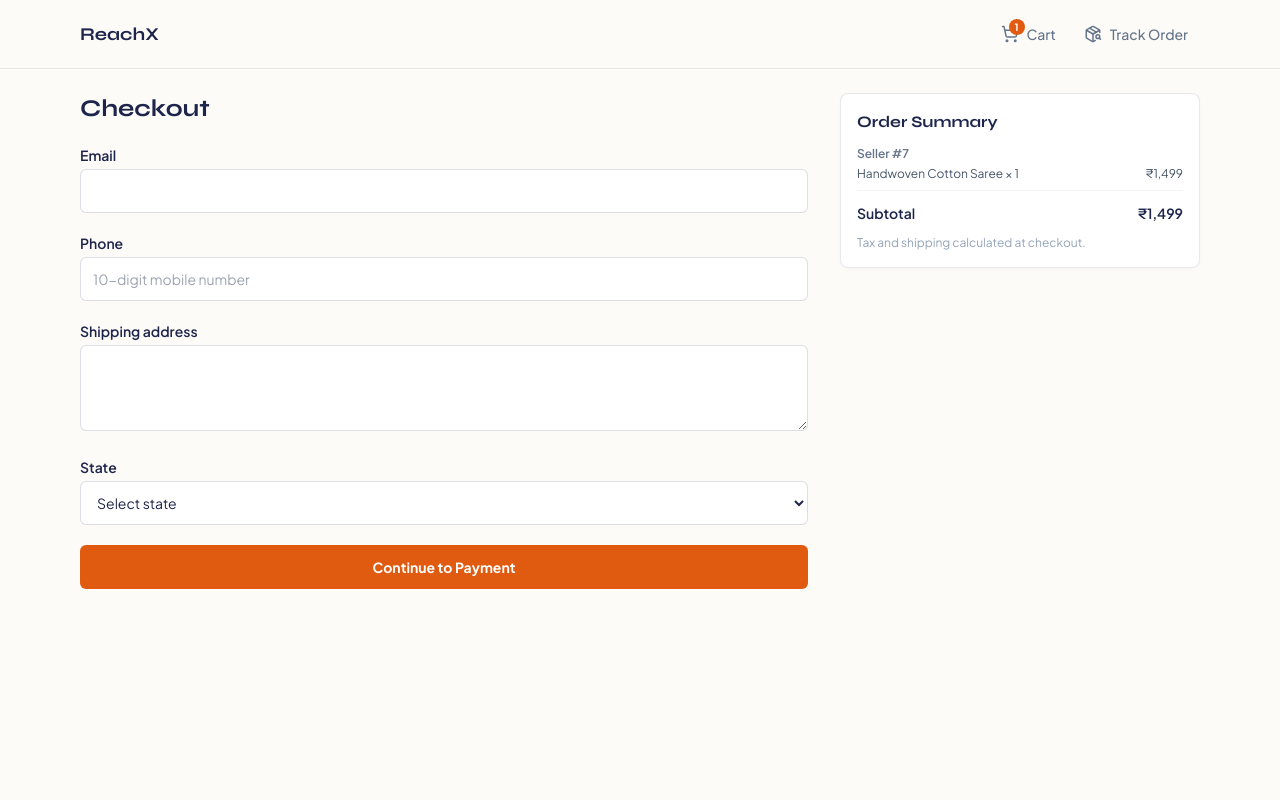
Scenario: Checkout - Session 3, order creation + Razorpay wiring › shows a cancelled panel, not an error, when the guest closes the widget without paying
Expected: the heading "Checkout" is shown, [80,94,210,123]
Type "guest@example.com" into the field labelled "Email".
click(444, 191); type("guest@example.com")  # box [80,169,808,213]
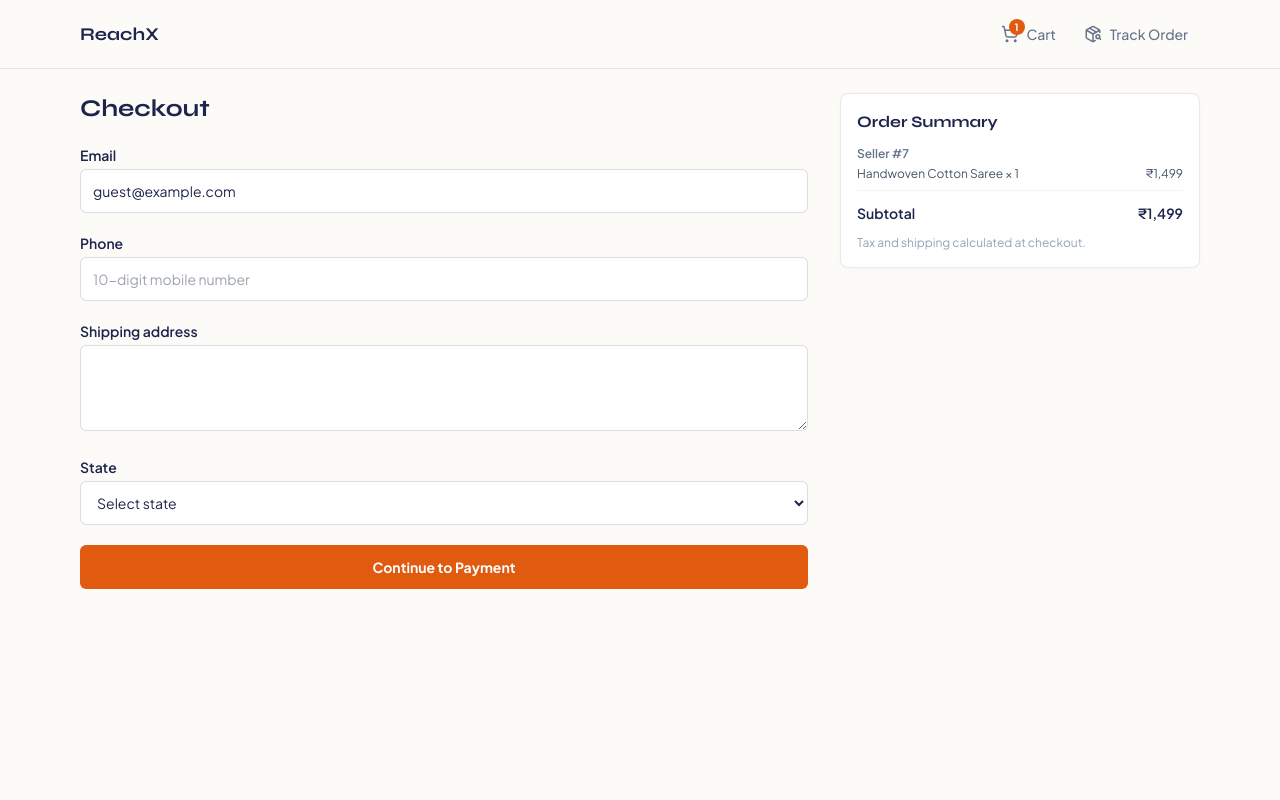
Type "9876543210" into the field labelled "Phone".
click(444, 279); type("9876543210")  # box [80,257,808,301]
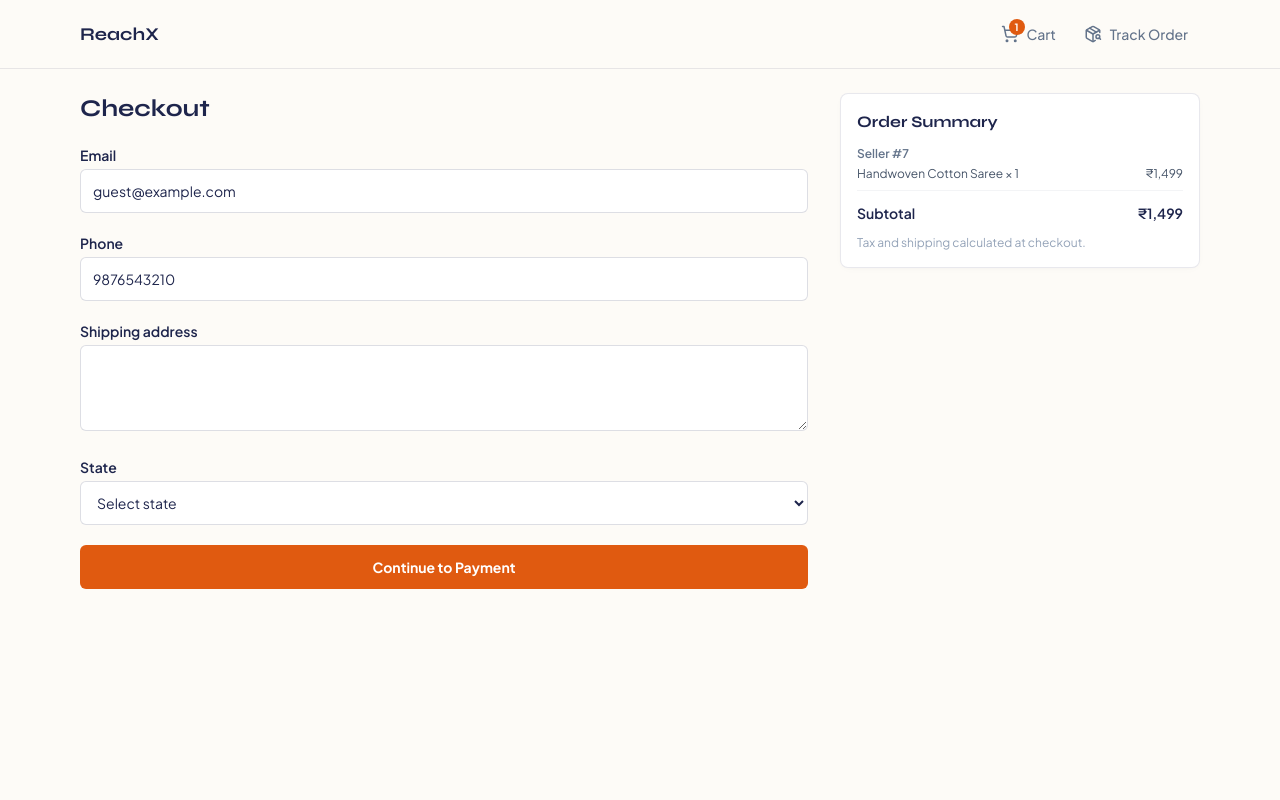
Type "123 MG Road, Bengaluru, 560001" into the text box labelled "Shipping address".
click(444, 388); type("123 MG Road, Bengaluru, 560001")  # box [80,345,808,431]
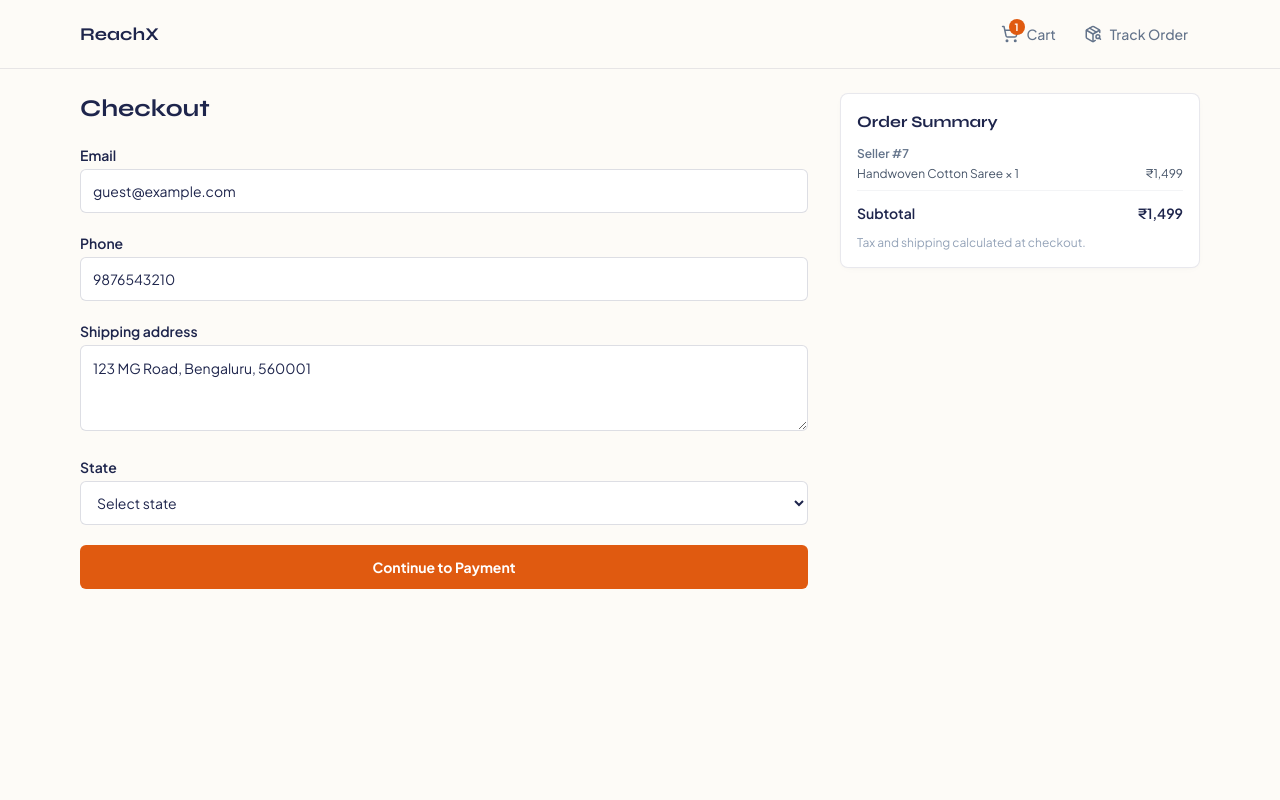
Select "Karnataka" in the dropdown labelled "State" at x=444, y=503, box [80,481,808,525]
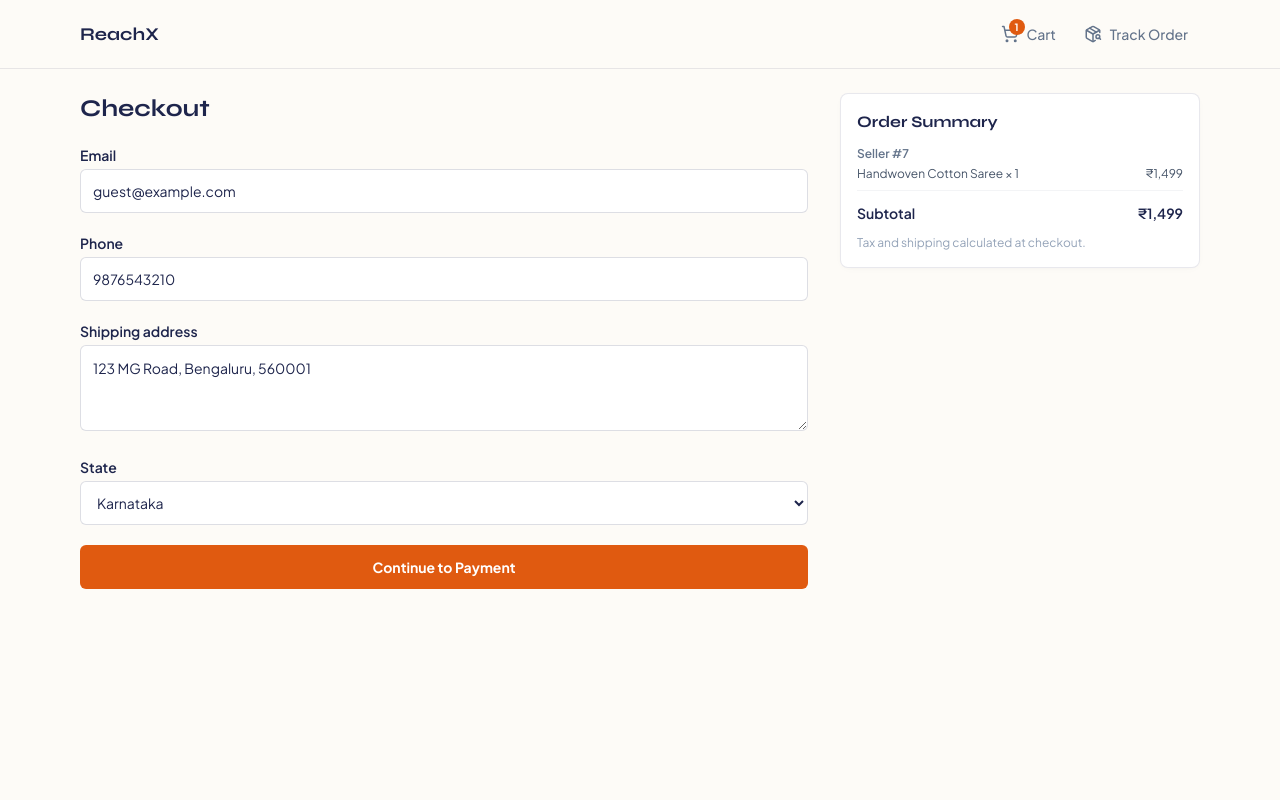
Click the button "Continue to Payment".
click(444, 567)  # box [80,545,808,589]
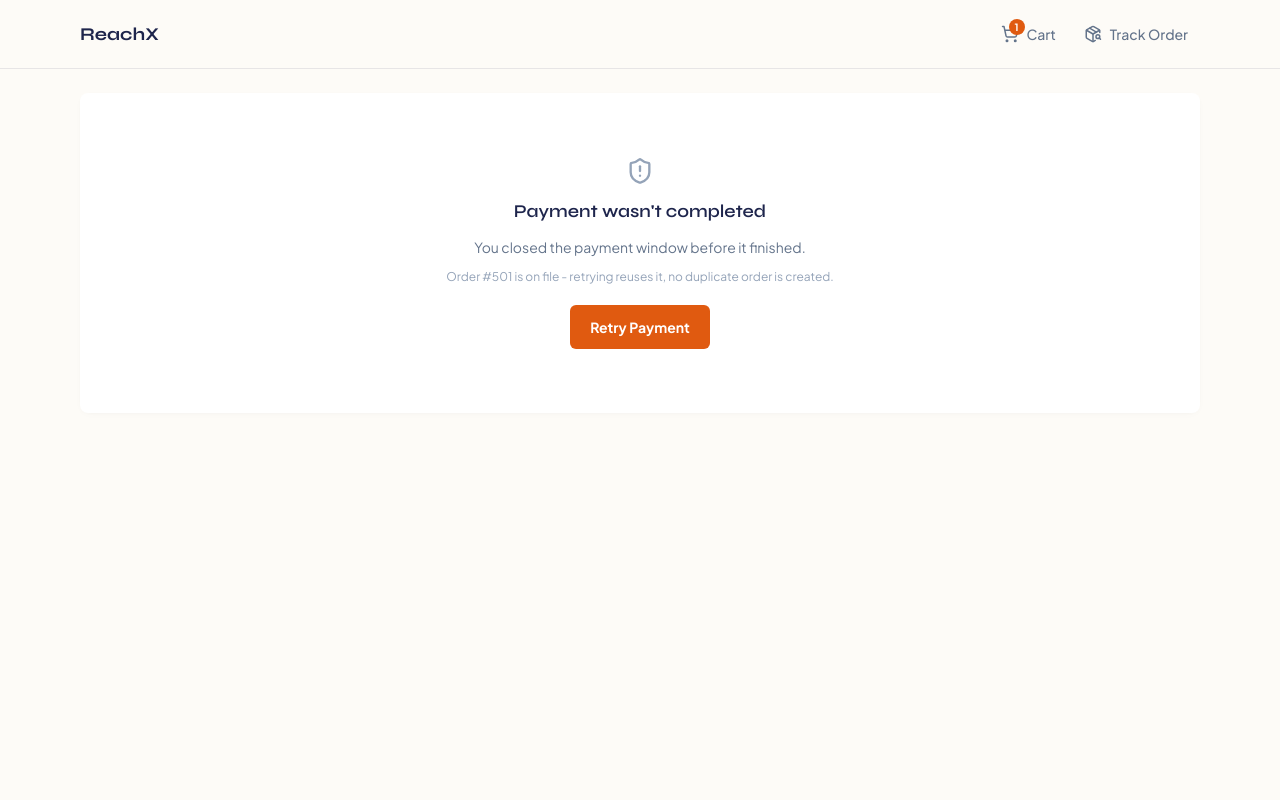
Now the text "Payment wasn't completed" is shown, box [514,197,766,225]
